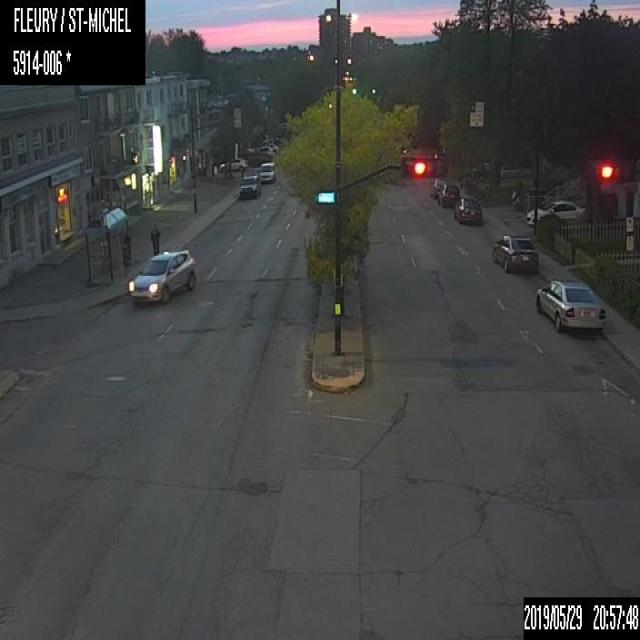pedestrian: (149, 221, 160, 256)
vehicle: (534, 276, 606, 332), (126, 245, 194, 304), (490, 232, 539, 275), (524, 198, 584, 225), (454, 194, 482, 226), (238, 172, 260, 200), (438, 182, 460, 207), (258, 161, 276, 185), (218, 156, 248, 170), (430, 175, 442, 198)
